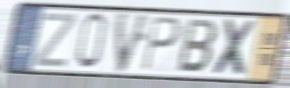0: (74, 11, 108, 73)
B: (175, 17, 220, 76)
P: (141, 15, 183, 73)
V: (114, 10, 154, 76)
X: (210, 17, 260, 79)
Z: (32, 11, 79, 70)
